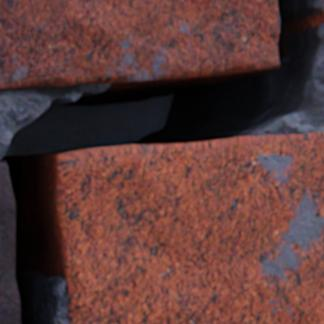brick: (56, 132, 323, 323), (0, 0, 278, 90), (0, 161, 20, 323), (322, 8, 323, 23)
crack: (0, 0, 322, 323)
